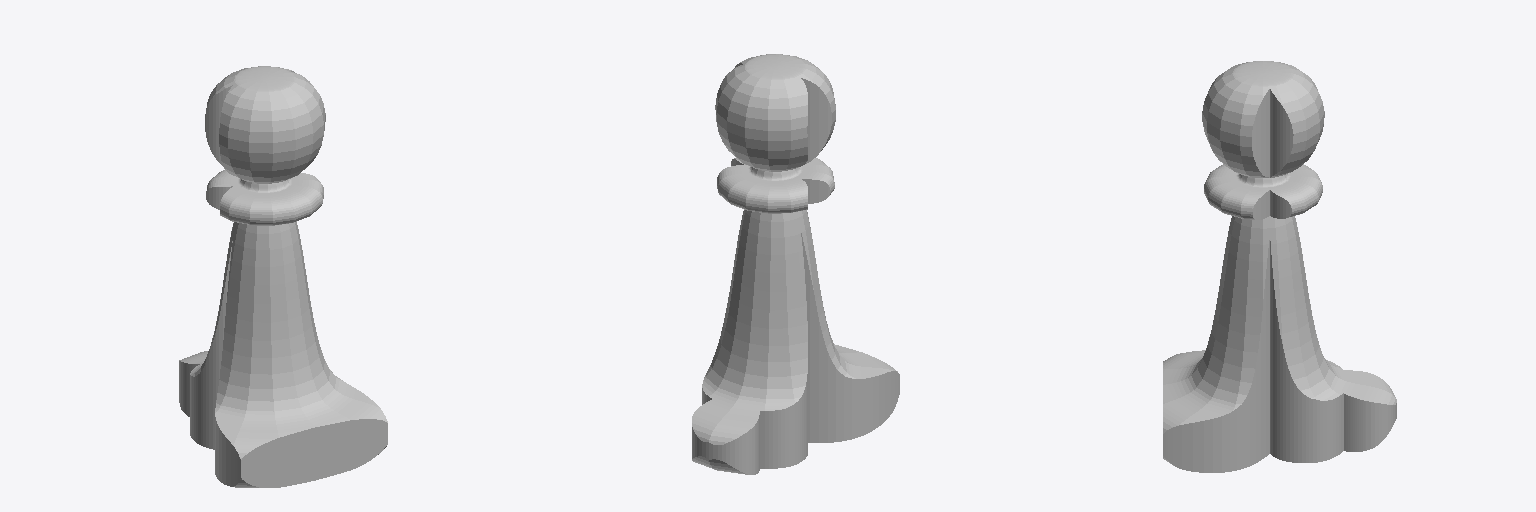
File: Pawn.obj
The picture shows the model from 3 angles: view 1: azimuth 30°, elevation 25°; view 2: azimuth 150°, elevation 25°; view 3: azimuth 270°, elevation 25°; orthographic projection.
Visible parts, largest first — view 1: 3D.Black.Pawn.002_BezierCurve.037; view 2: 3D.Black.Pawn.002_BezierCurve.037; view 3: 3D.Black.Pawn.002_BezierCurve.037.
Part boxes in pixels (x1,y1,x2,y2): 3D.Black.Pawn.002_BezierCurve.037: (179,66,387,487); 3D.Black.Pawn.002_BezierCurve.037: (692,54,899,474); 3D.Black.Pawn.002_BezierCurve.037: (1163,61,1396,472).
Bounding box in the file's own units: 1.31 × 3.13 × 1.8.